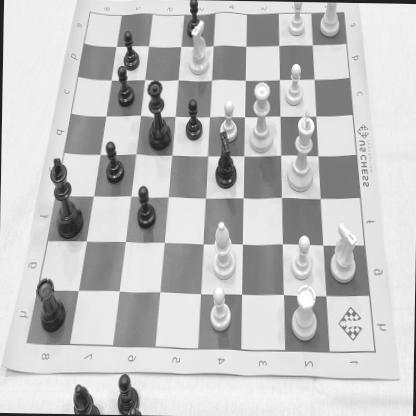black-king: (47, 150, 86, 240)
black-knight: (211, 130, 240, 190)
black-pawn: (132, 180, 158, 233), (182, 94, 206, 144), (104, 138, 127, 188), (113, 64, 138, 107), (121, 28, 142, 72), (184, 0, 204, 38)
black-queen: (142, 75, 174, 153)
black-rook: (34, 271, 70, 336)
white-bishop: (210, 221, 238, 281)
white-king: (284, 107, 318, 194)
white-knight: (326, 221, 360, 284), (186, 18, 211, 80)
white-pawn: (206, 284, 234, 334), (289, 232, 315, 282), (283, 62, 306, 108), (218, 98, 240, 143), (284, 2, 308, 38)
white-queen: (245, 78, 274, 154)
white-rook: (288, 283, 318, 343), (316, 2, 344, 39)
